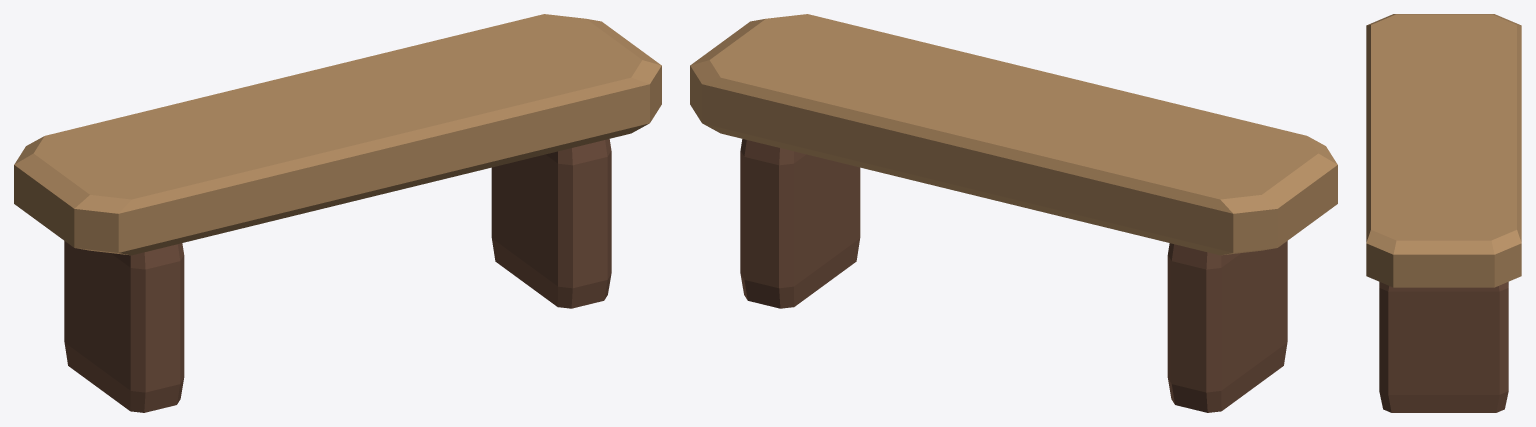
File: bench.glb
The picture shows the model from 3 angles, left to right: view 1: azimuth 30°, elevation 25°; view 2: azimuth 150°, elevation 25°; view 3: azimuth 270°, elevation 25°; orthographic projection. The views are drawn at different scales.
Visible parts, largest first — view 1: Seat, BenchLeg, _MeshInstance3D_169; view 2: Seat, BenchLeg, _MeshInstance3D_169; view 3: Seat, _MeshInstance3D_169.
Boxes of the visible parts, x1,y1,x2,y2 form: Seat: (14,14,661,255); BenchLeg: (64,241,184,412); _MeshInstance3D_169: (491,139,611,308); Seat: (690,14,1337,255); BenchLeg: (1167,241,1287,412); _MeshInstance3D_169: (740,139,860,308); Seat: (1366,14,1521,287); _MeshInstance3D_169: (1379,282,1508,412).
Size of the model in its own units: 1.1 by 0.4 by 0.3.
